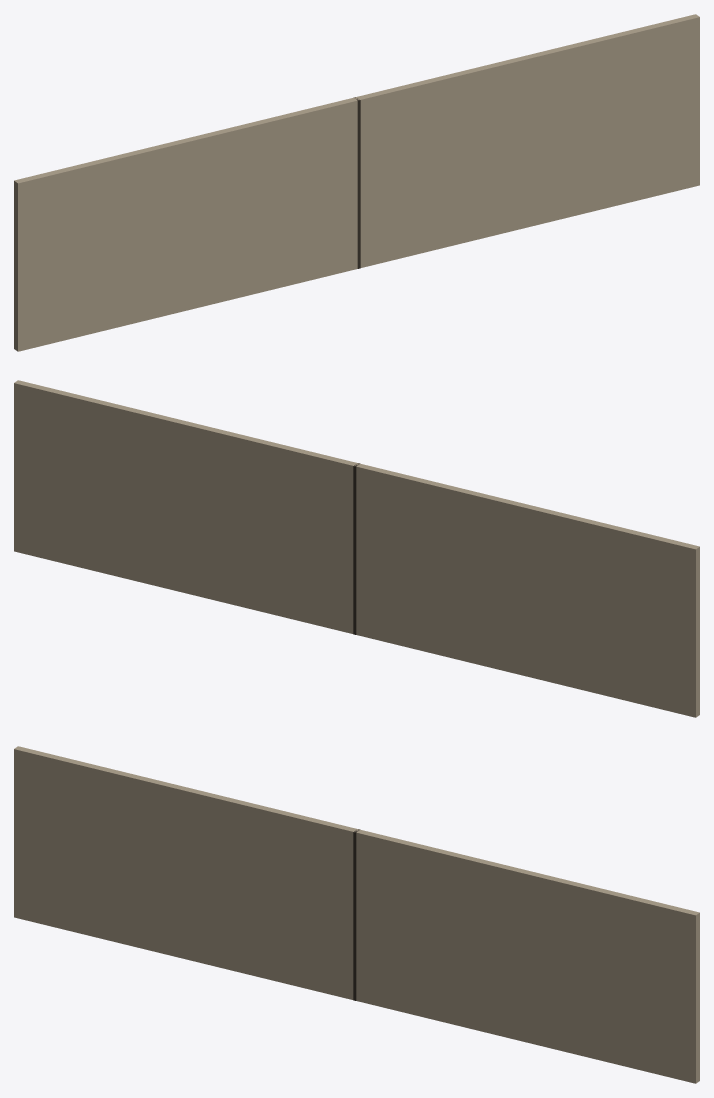
The picture shows the model from 3 angles, top to bottom: view 1: azimuth 30°, elevation 25°; view 2: azimuth 150°, elevation 25°; view 3: azimuth 330°, elevation 25°; orthographic projection.
Visible parts, largest first — view 1: backsplash; view 2: backsplash; view 3: backsplash.
Boxes of the visible parts, box(x1,y1,x2,y2) form: backsplash: box(14, 14, 699, 351); backsplash: box(14, 380, 699, 717); backsplash: box(14, 746, 699, 1083).
Size of the model in its own units: 1.95 by 0.46 by 0.022.
